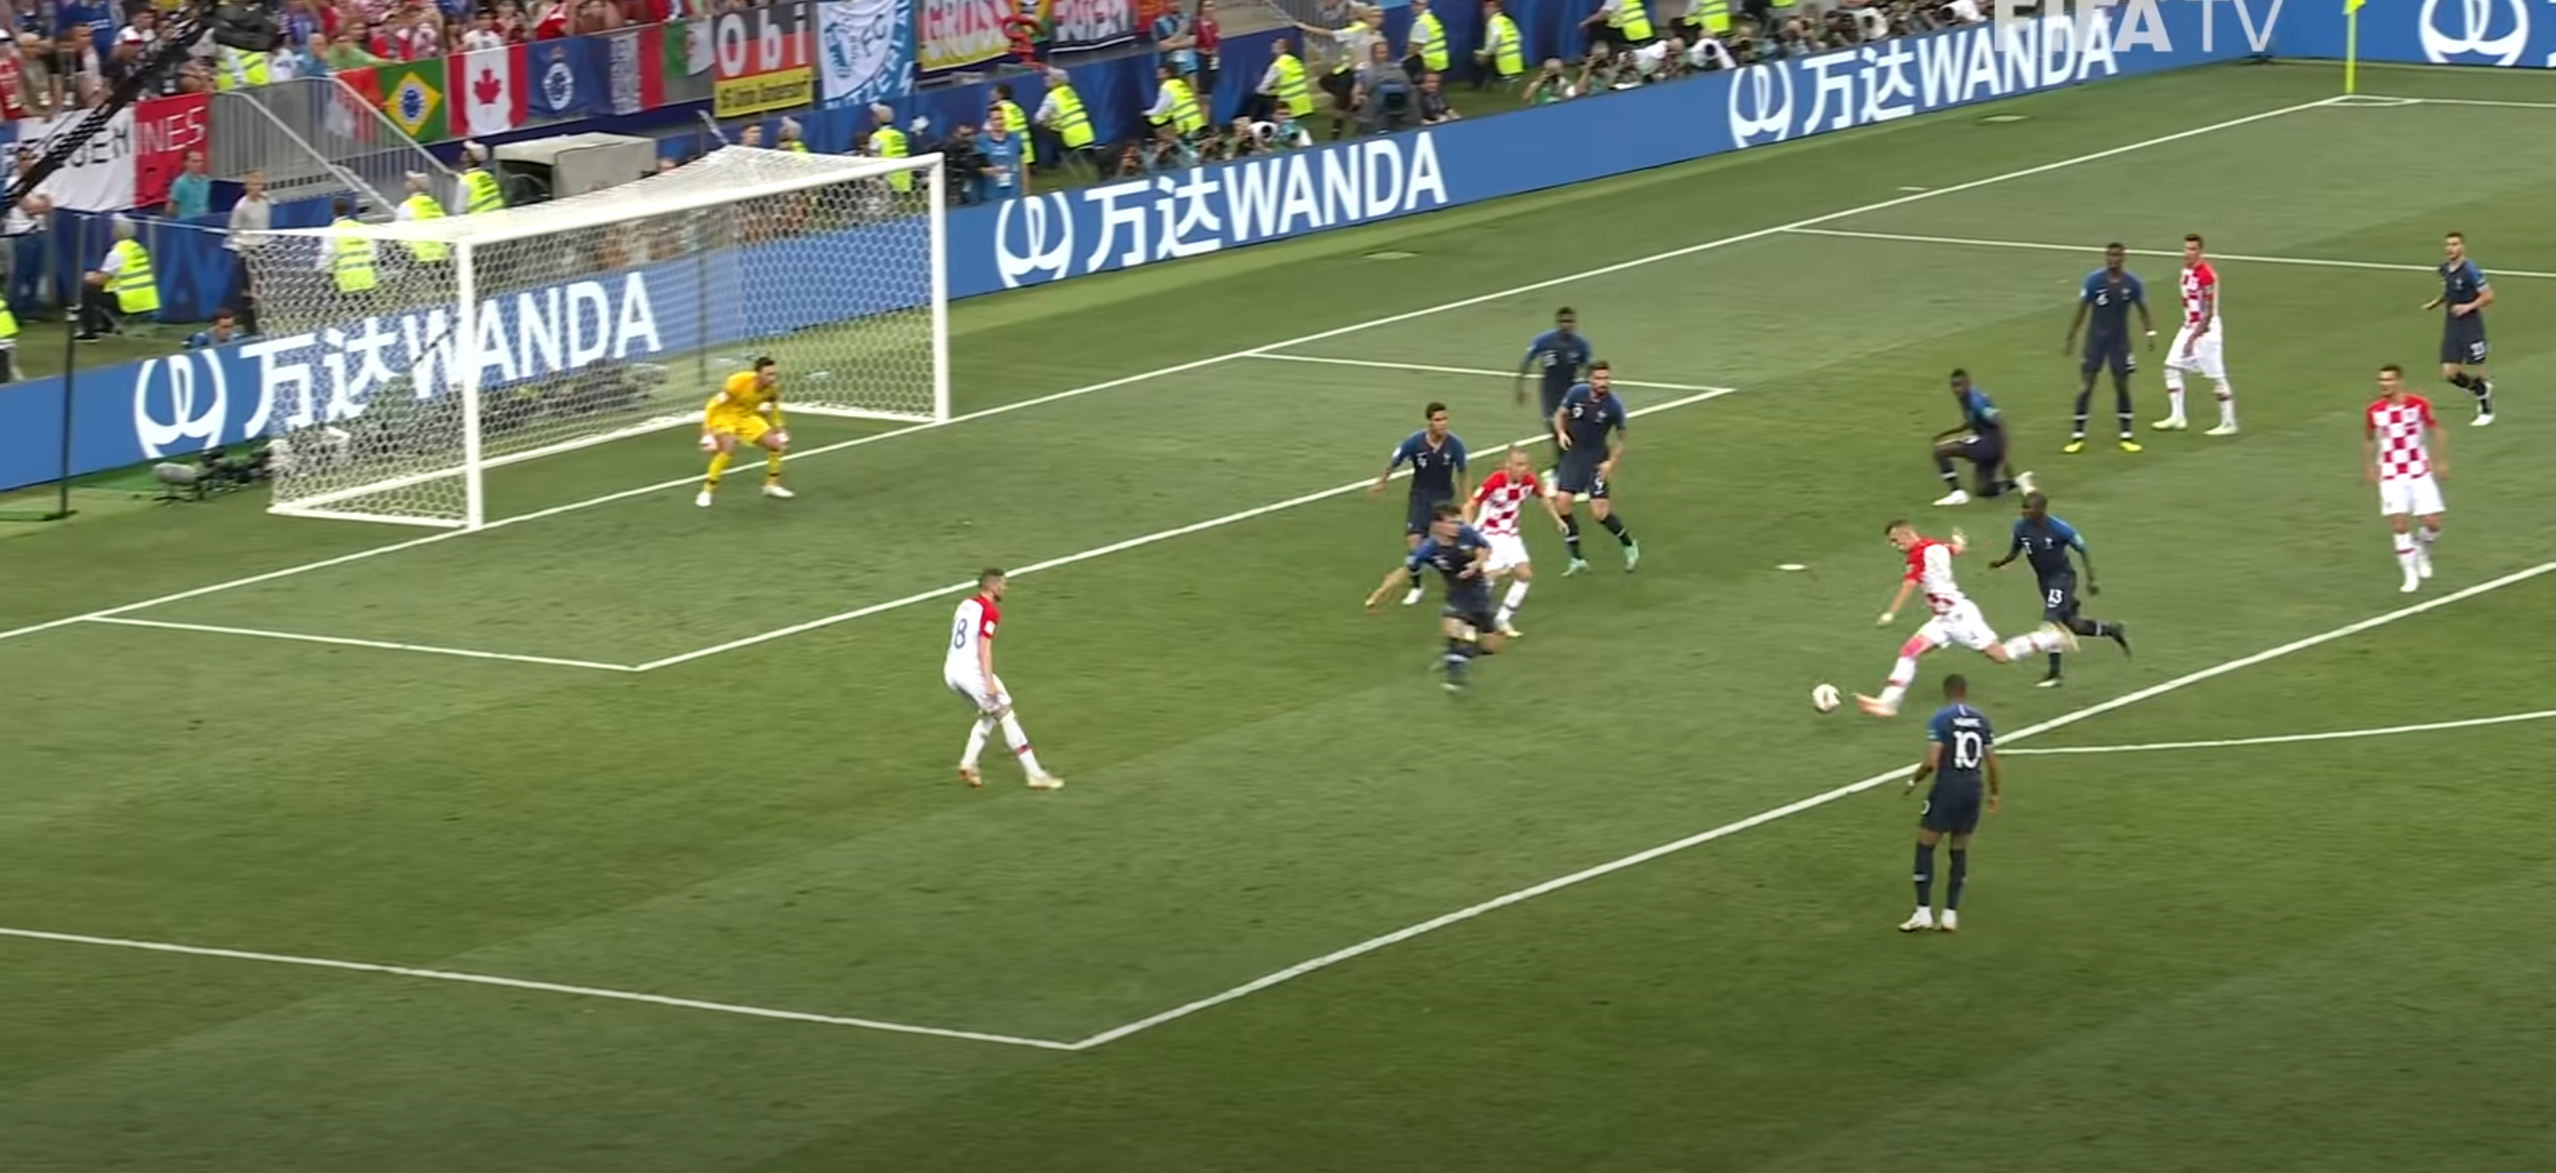Ball: (1805, 679, 1847, 723)
Goalie: (698, 358, 792, 507)
Team A: (1852, 516, 2078, 723), (942, 569, 1066, 792), (1462, 445, 1570, 639), (2360, 363, 2450, 593), (2153, 235, 2238, 437)
Team B: (1989, 494, 2134, 691), (1901, 674, 2003, 934), (1368, 503, 1501, 697), (1514, 306, 1630, 500), (1369, 402, 1470, 604), (1550, 362, 1642, 578), (2064, 243, 2157, 455), (1930, 368, 2038, 507), (2422, 233, 2497, 428)
